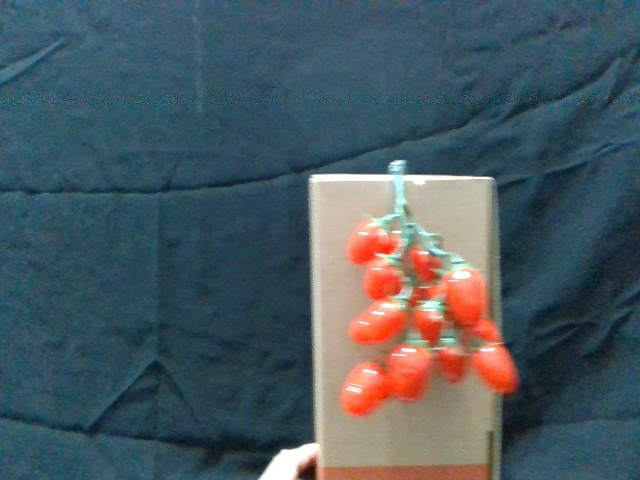tomato: (340, 353, 390, 420), (347, 291, 407, 346), (385, 337, 431, 402), (469, 336, 518, 396), (447, 258, 489, 324), (366, 251, 405, 301), (350, 215, 390, 262), (429, 333, 468, 380), (416, 294, 446, 342)
